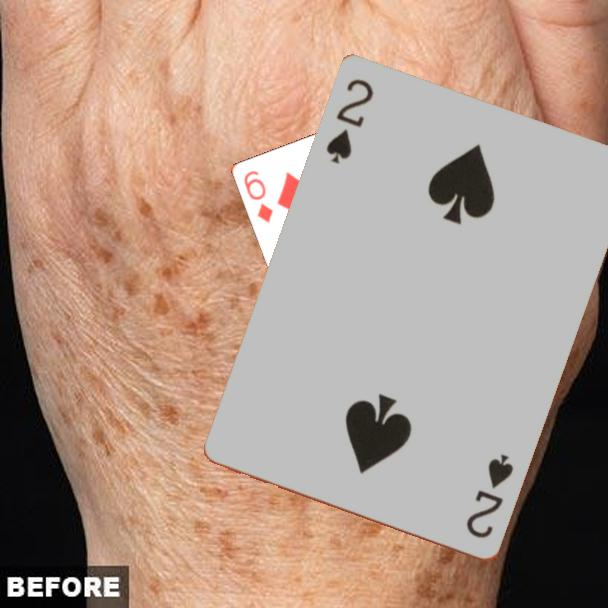d06: (240, 167, 276, 226)
s02: (322, 75, 377, 168), (463, 451, 517, 542)
